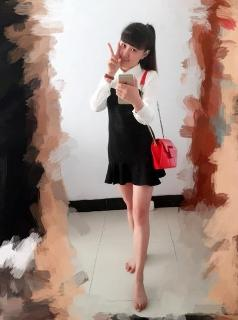long sleeve dress: (90, 62, 167, 186)
